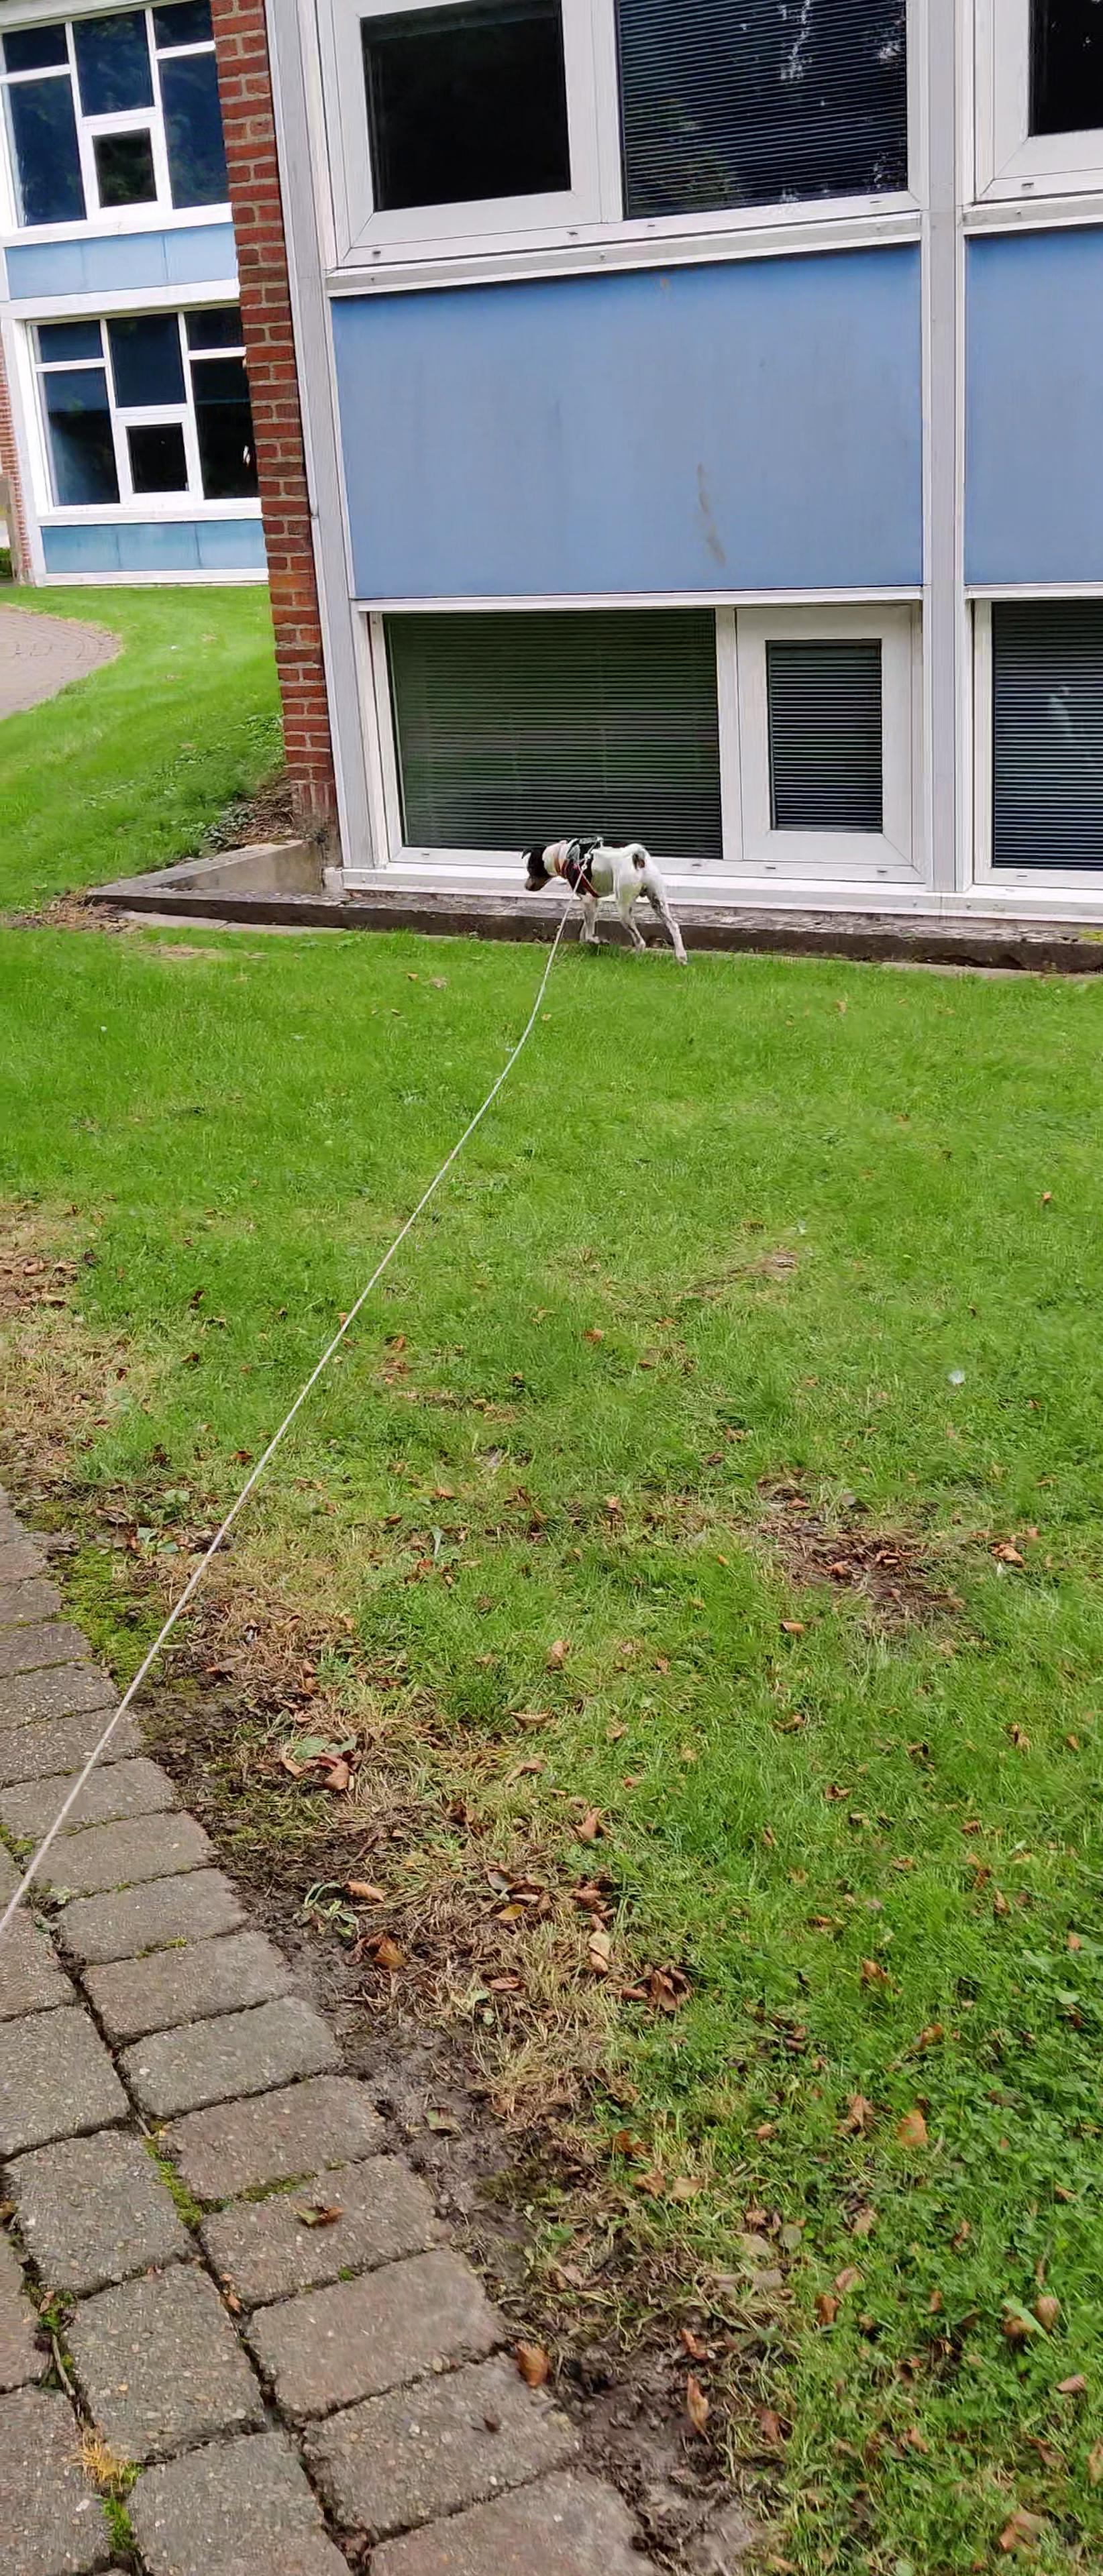Dog: (516, 826, 690, 963)
